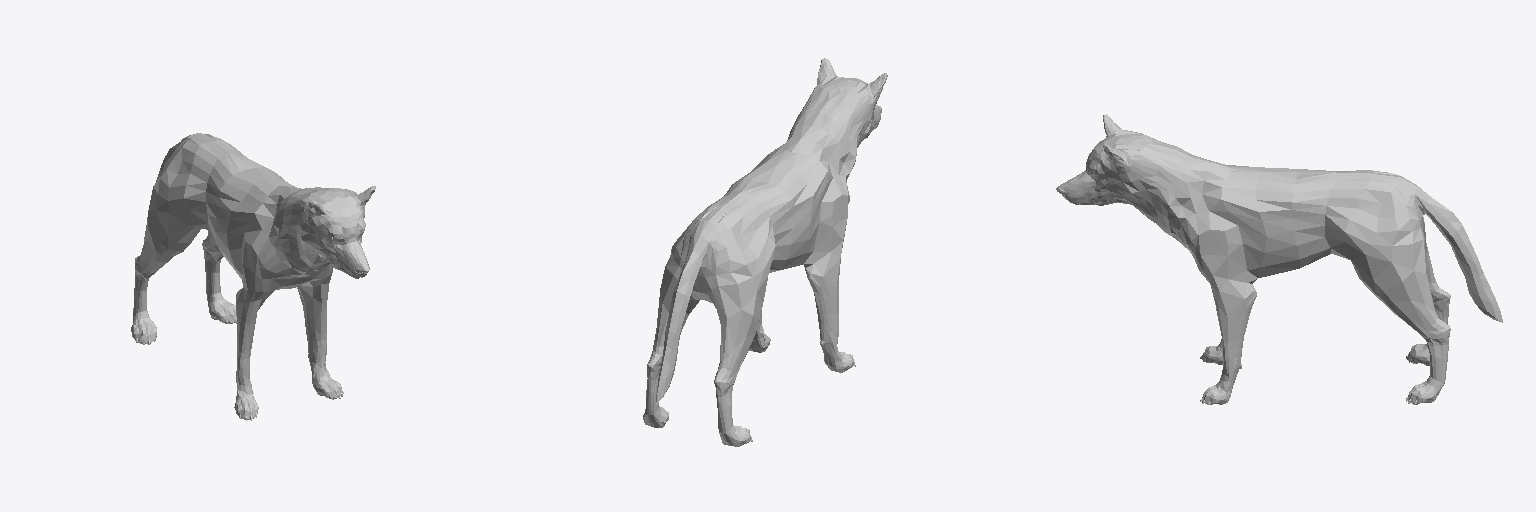
File: COYOTE.OBJ
3 renders of one model, left to right at view 1: azimuth 30°, elevation 25°; view 2: azimuth 150°, elevation 25°; view 3: azimuth 270°, elevation 25°, orthographic.
Parts seen in each view (by area): view 1: cyot_body; view 2: cyot_body; view 3: cyot_body.
Boxes of the visible parts, x1=… form: cyot_body: x1=131, y1=133, x2=375, y2=420; cyot_body: x1=643, y1=58, x2=887, y2=446; cyot_body: x1=1056, y1=114, x2=1502, y2=404.
Size of the model in its own units: 0.3058 by 0.7075 by 1.13.